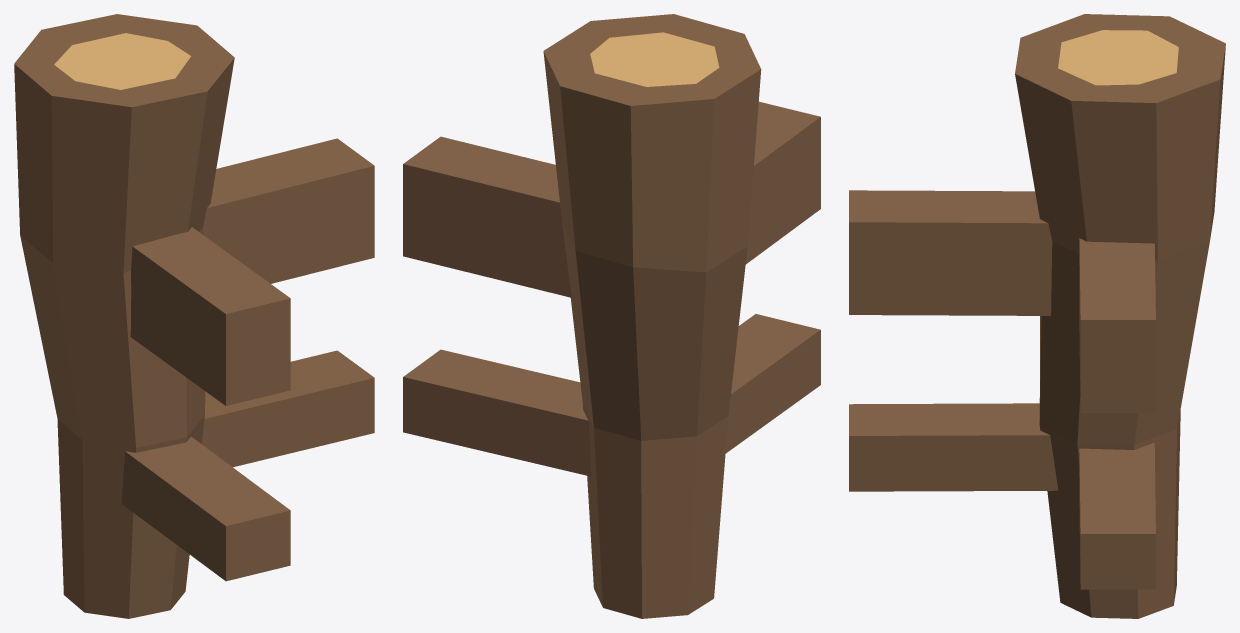
Rendered from Fence2.fbx.
The picture shows the model from 3 angles, left to right: view 1: azimuth 30°, elevation 25°; view 2: azimuth 150°, elevation 25°; view 3: azimuth 270°, elevation 25°; orthographic projection.
Visible parts, largest first — view 1: Plane.201, Plane.202, Plane.204, Plane.203, Plane.205; view 2: Plane.201, Plane.204, Plane.205, Plane.202, Plane.203; view 3: Plane.201, Plane.202, Plane.203, Plane.204, Plane.205.
Boxes of the visible parts, box(x1,y1,x2,y2) form: Plane.201: box(14, 14, 234, 618); Plane.202: box(130, 227, 290, 405); Plane.204: box(203, 138, 374, 283); Plane.203: box(121, 436, 290, 581); Plane.205: box(201, 350, 374, 467); Plane.201: box(543, 14, 761, 618); Plane.204: box(403, 136, 571, 297); Plane.205: box(403, 349, 591, 476); Plane.202: box(745, 101, 820, 264); Plane.203: box(725, 314, 820, 453); Plane.201: box(1015, 14, 1225, 618); Plane.202: box(849, 190, 1052, 315); Plane.203: box(849, 403, 1058, 491); Plane.204: box(1079, 238, 1155, 412); Plane.205: box(1079, 442, 1155, 589).
Bounding box in the file's own units: 0.6943 × 0.7 × 1.1.
